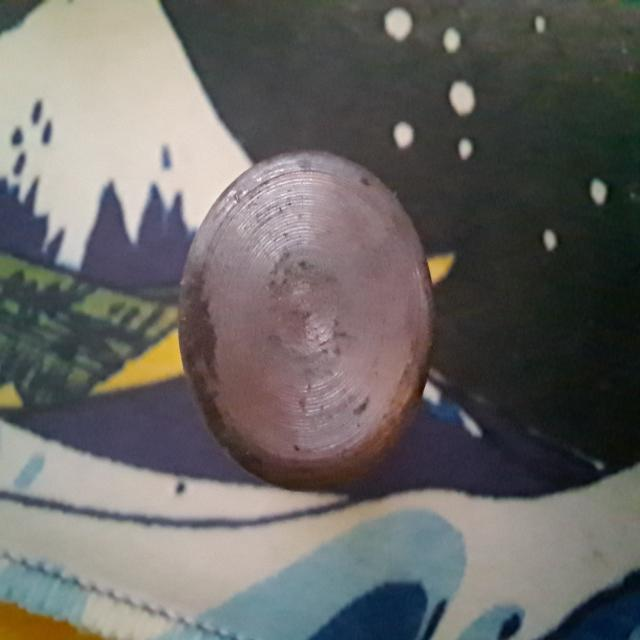planson: (178, 146, 436, 486)
